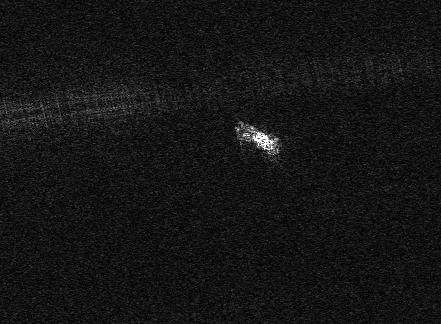ship: (234, 118, 283, 158)
